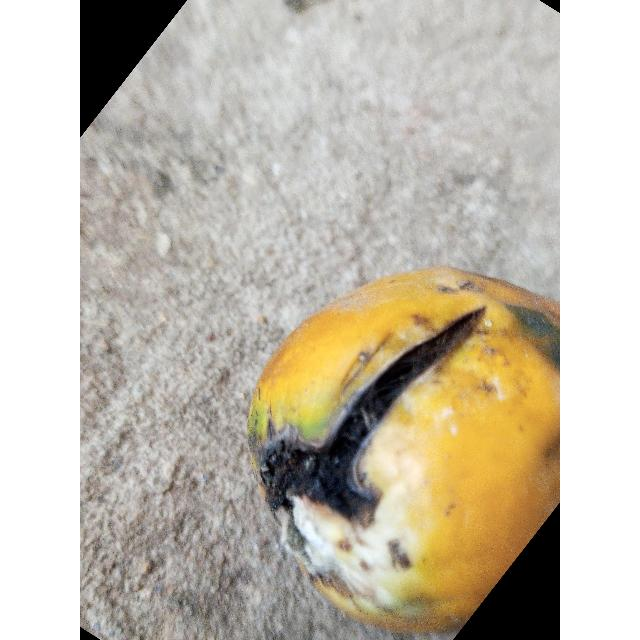damaged: (248, 266, 560, 640)
